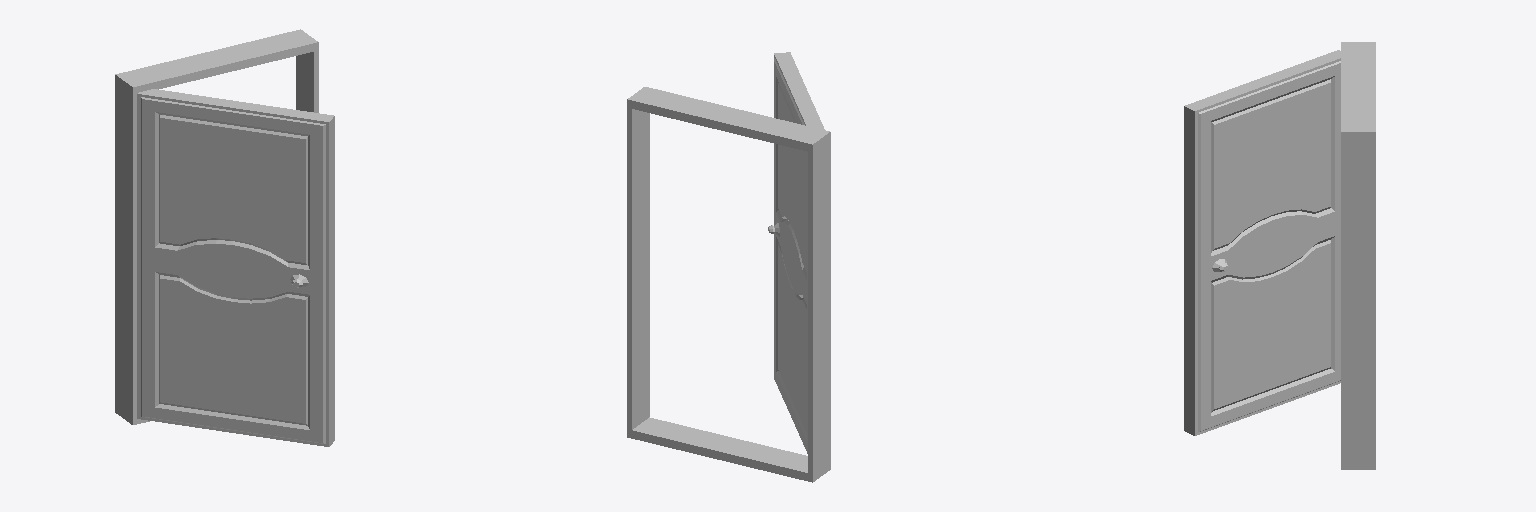
Rendered from drzwiok_000020.obj.
3 renders of one model, left to right at view 1: azimuth 30°, elevation 25°; view 2: azimuth 150°, elevation 25°; view 3: azimuth 270°, elevation 25°, orthographic.
Visible parts, largest first — view 1: Door_4.001_Cube.001, Kostka; view 2: Kostka, Door_4.001_Cube.001; view 3: Door_4.001_Cube.001, Kostka.
Boxes of the visible parts, x1,y1,x2,y2 form: Door_4.001_Cube.001: [137, 89, 334, 446]; Kostka: [115, 29, 318, 424]; Kostka: [627, 87, 830, 482]; Door_4.001_Cube.001: [768, 52, 824, 453]; Door_4.001_Cube.001: [1184, 50, 1340, 435]; Kostka: [1341, 42, 1375, 469].
Size of the model in its own units: 0.7416 by 1.29 by 0.6631.